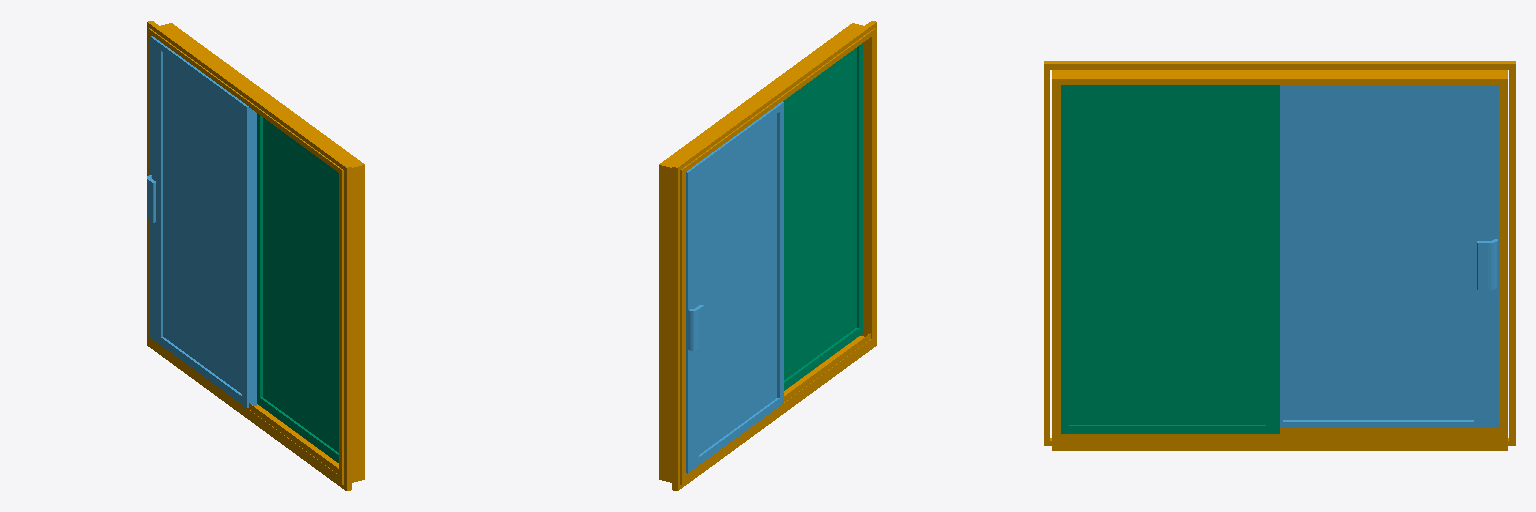
URDF robot description (Window):
<robot name="Window">
    <link name="frame">
        <visual>
            <geometry>
                <mesh filename="meshes/frame.obj"/>
            </geometry>
        </visual>
        <collision>
            <geometry>
                <mesh filename="meshes/frame.obj"/>
            </geometry>
        </collision>
    </link>
    <link name="pane_0">
        <visual>
            <geometry>
                <mesh filename="meshes/pane_0.obj"/>
            </geometry>
        </visual>
        <collision>
            <geometry>
                <mesh filename="meshes/pane_0.obj"/>
            </geometry>
        </collision>
    </link>
    <link name="pane_1">
        <visual>
            <geometry>
                <mesh filename="meshes/pane_1.obj"/>
            </geometry>
        </visual>
        <collision>
            <geometry>
                <mesh filename="meshes/pane_1.obj"/>
            </geometry>
        </collision>
    </link>


    <joint name="window_pane_slider_0" type="prismatic">
        <origin xyz="0.0 -0.021 0.0" rpy="0.0 0.0 0.0"/>
        <parent link="frame"/>
        <child link="pane_0"/>
        <axis xyz="0.0 1.0 0.0"/>
        <limit lower="-0.042" upper="0.0" effort="100.0" velocity="100.0"/>
    </joint>
    <joint name="window_pane_slider_1" type="prismatic">
        <origin xyz="0.0 -0.03 -0.002" rpy="0.0 0.0 0.0"/>
        <parent link="frame"/>
        <child link="pane_1"/>
        <axis xyz="0.0 1.0 0.0"/>
        <limit lower="0.0" upper="0.042" effort="100.0" velocity="100.0"/>
    </joint>
</robot>

--- What the picture shows (computed from the rendered views, not written in the file) ---
3 views of the same robot in one strip: view 1: azimuth 30°, elevation 25°; view 2: azimuth 150°, elevation 25°; view 3: azimuth 270°, elevation 25° (orthographic).
Model Window with 3 links and 2 joints (2 prismatic), rooted at frame, posed all joints at 0.
Links seen in each view (by area): view 1: pane_0, pane_1, frame; view 2: pane_0, pane_1, frame; view 3: pane_1, pane_0, frame.
Link boxes in pixels (x1=…): pane_0: x1=147, y1=36, x2=256, y2=407; pane_1: x1=257, y1=113, x2=338, y2=462; frame: x1=147, y1=21, x2=364, y2=490; pane_0: x1=686, y1=101, x2=783, y2=473; pane_1: x1=783, y1=43, x2=862, y2=390; frame: x1=659, y1=21, x2=876, y2=490; pane_1: x1=1061, y1=85, x2=1279, y2=433; pane_0: x1=1280, y1=85, x2=1498, y2=427; frame: x1=1044, y1=61, x2=1515, y2=450.
Bounding box of the posed robot: 0.0087 × 0.0943 × 0.0843 m (x, y, z).
Meshes: 3 distinct files referenced, 3 mesh visuals loaded (3 OBJ).